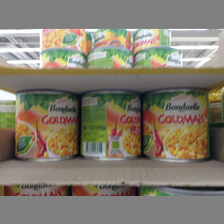corn: (142, 88, 211, 162), (14, 90, 79, 162), (80, 91, 142, 162), (38, 43, 83, 68), (133, 44, 183, 66), (84, 46, 133, 68)
